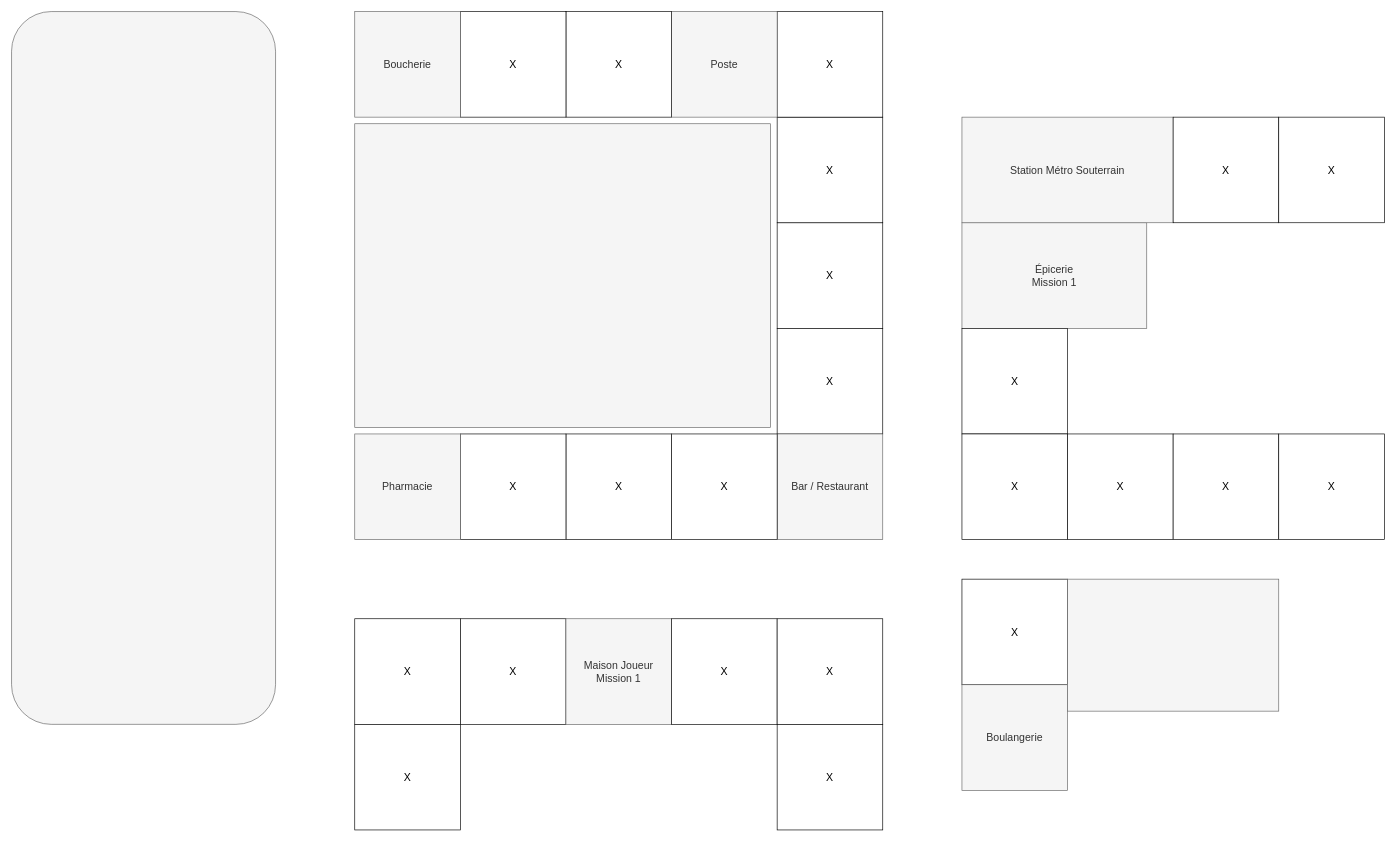
Image size: 1396x842. Some labels were removed from this diagram. The shapes that lost their labels are listed below. From the top down, each one's box as (x1, y1, x2, y2) in pixels, then its label:
(354, 123, 771, 427): Cathédrale
(11, 11, 276, 724): Place du village
(1067, 578, 1279, 711): Bibliothèque
